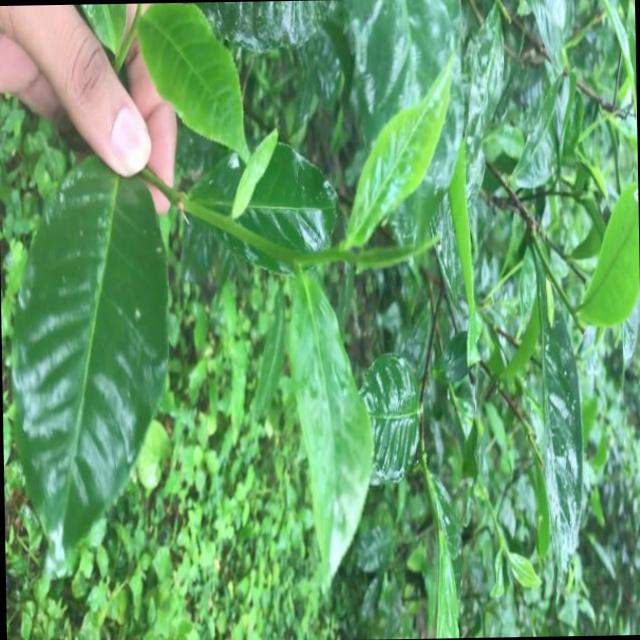Stem: (257, 238, 293, 271)
